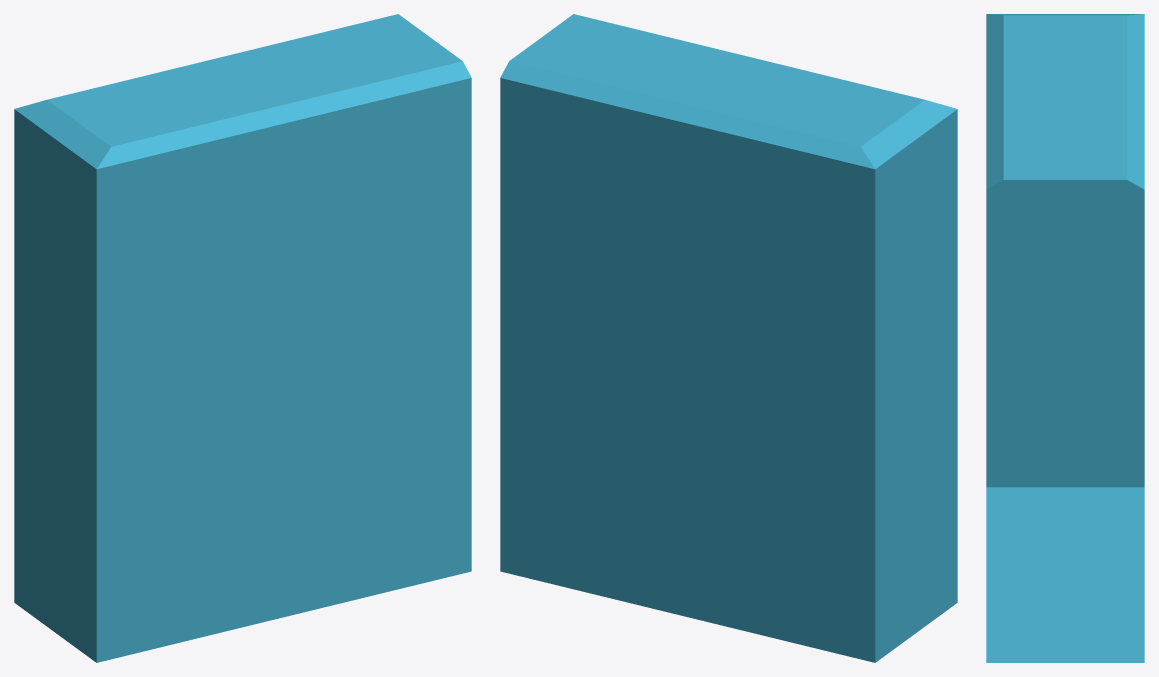
Rendered from Itr_Couch_Outside_Back_Left_05.FBX.
3 renders of one model, left to right at view 1: azimuth 30°, elevation 25°; view 2: azimuth 150°, elevation 25°; view 3: azimuth 270°, elevation 25°, orthographic. The views are drawn at different scales.
Visible parts, largest first — view 1: Itr_Couch_Outside_Back_Left_05; view 2: Itr_Couch_Outside_Back_Left_05; view 3: Itr_Couch_Outside_Back_Left_05.
Boxes of the visible parts, x1,y1,x2,y2 form: Itr_Couch_Outside_Back_Left_05: (14, 14, 471, 662); Itr_Couch_Outside_Back_Left_05: (500, 14, 957, 662); Itr_Couch_Outside_Back_Left_05: (986, 14, 1144, 662).
Size of the model in its own units: 18.89 by 24.24 by 7.19.
